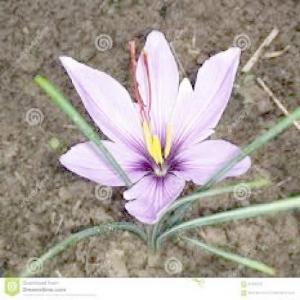Saffron: (60, 32, 252, 224)
